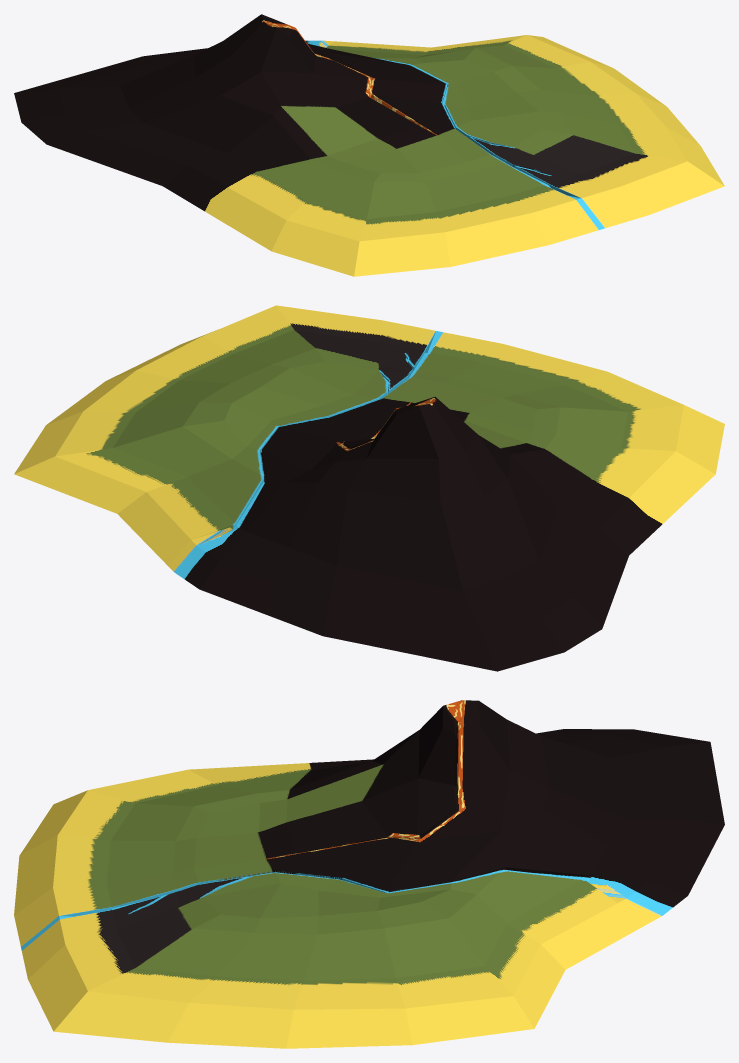
Rendered from Avalonnya.glb.
3 renders of one model, top to bottom at view 1: azimuth 30°, elevation 25°; view 2: azimuth 150°, elevation 25°; view 3: azimuth 270°, elevation 25°, orthographic. The views are drawn at different scales.
Visible parts, largest first — view 1: Cube; view 2: Cube; view 3: Cube.
Part boxes in pixels (box(x1,y1,x2,y2)): Cube: box(14, 14, 724, 276); Cube: box(14, 305, 724, 671); Cube: box(14, 700, 724, 1048).
Bounding box in the file's own units: 1257 × 284 × 1208.
1 material, 1 textured.
